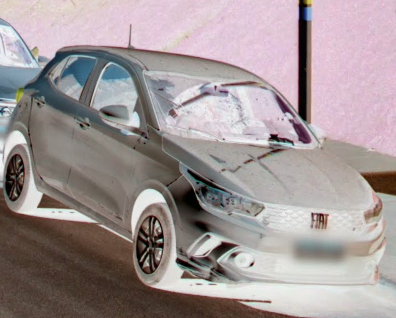car: (2, 43, 389, 294)
